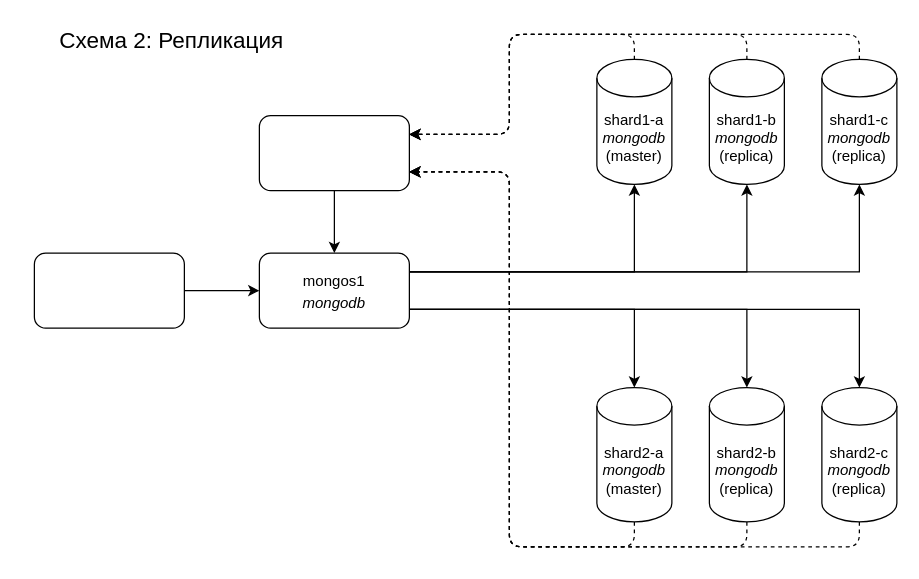
Some shapes in this 919 by 579 pixel diagram are drawn without their labels. The shapes that lost their labels are listed below. From the top down, each one's centre as x and y in pixels, then its label:
At (x=333, y=152): "configSrv1 mongodb".
At (x=108, y=290): "pymongo-api python3".
